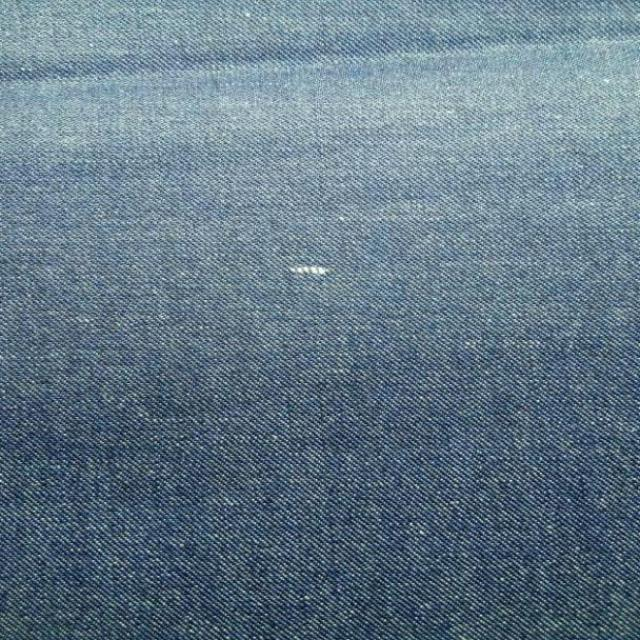Knot: (289, 265, 332, 276)
